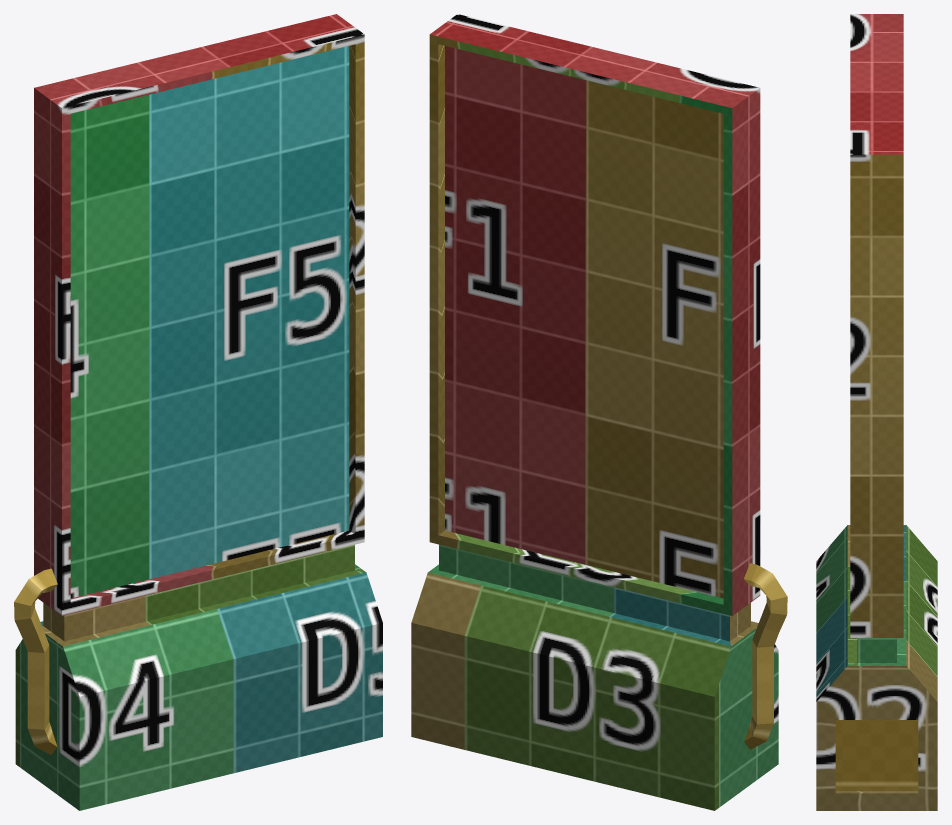
Rendered from StandingAd.fbx.
3 renders of one model, left to right at view 1: azimuth 30°, elevation 25°; view 2: azimuth 150°, elevation 25°; view 3: azimuth 270°, elevation 25°, orthographic. The views are drawn at different scales.
Visible parts, largest first — view 1: StandingAd; view 2: StandingAd; view 3: StandingAd.
Boxes of the visible parts, left/top/right/bottom form: StandingAd: left=14, top=14, right=382, bottom=810; StandingAd: left=411, top=14, right=787, bottom=810; StandingAd: left=816, top=14, right=937, bottom=810.
Bounding box in the file's own units: 225 × 435 × 73.08.
